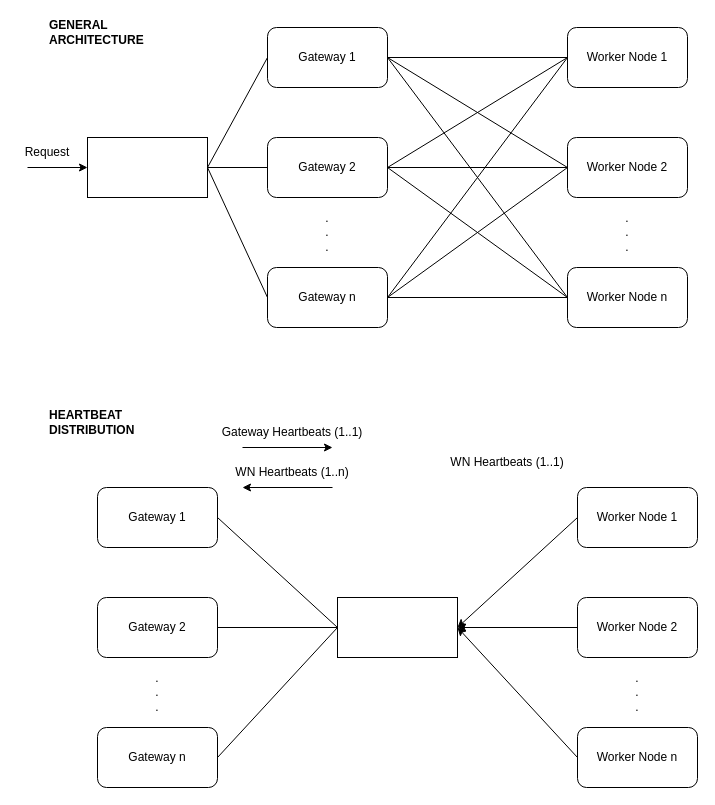
Some shapes in this 715 by 805 pixel diagram are drawn without their labels. Here are the shapes that lost their labels. From the top down, the centre of each, then its label:
(147,167): Load balancer
(397,627): Registry
